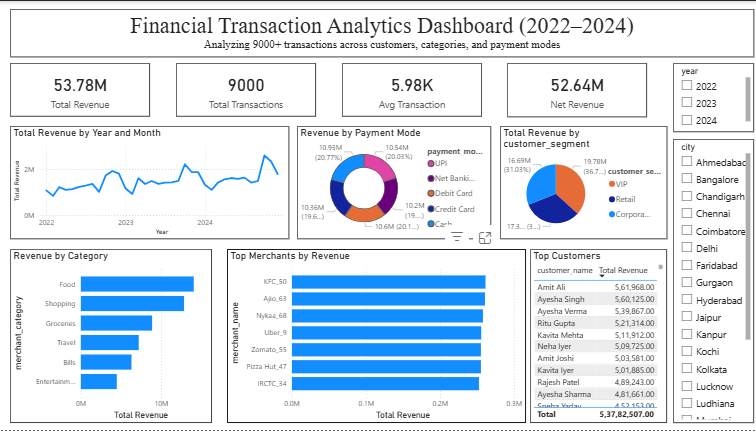

This screenshot's page, from the dashboard's own definition file:
{"tool":"powerbi","page":{"name":"Page 1","canvas":[1280,720],"ordinal":0},"visuals":[{"type":"card","fields":{"Values":["finance dim_accounts.Total Revenue"]},"box":[18.5,104.1,235.2,90],"z":0},{"type":"card","fields":{"Values":["finance dim_accounts.Total Transactions"]},"box":[296.9,104.1,235.2,90],"z":1000},{"type":"card","fields":{"Values":["finance dim_accounts.Avg Transaction"]},"box":[575.4,104.1,235,90],"z":2000},{"type":"card","fields":{"Values":["finance dim_accounts.Net Revenue"]},"box":[853.7,104.1,235.2,90.7],"z":3000},{"type":"lineChart","fields":{"Category":["finance dim_date.full_date.Variation.Date Hierarchy.Year","finance dim_date.full_date.Variation.Date Hierarchy.Month"],"Y":["finance dim_accounts.Total Revenue"]},"box":[18.5,210,468.7,189.8],"z":4000},{"type":"barChart","title":"Revenue by Category","fields":{"Category":["finance dim_merchants.merchant_category"],"Y":["finance dim_accounts.Total Revenue"]},"box":[18.5,416.6,339.3,292.3],"z":5000},{"type":"donutChart","title":"Revenue by Payment Mode","fields":{"Category":["finance fact_transactions.payment_mode"],"Y":["finance dim_accounts.Net Revenue"]},"box":[500.6,210,325.9,189.8],"z":6000},{"type":"slicer","title":"year","fields":{"Values":["finance dim_date.year"]},"box":[1132.2,104.1,136.1,115.9],"z":7000},{"type":"slicer","fields":{"Values":["finance dim_customers.city"]},"box":[1132.2,231.8,136.1,477.1],"z":8000},{"type":"textbox","box":[18.5,13.4,1249.8,80.6],"z":9000},{"type":"tableEx","title":"Top  Customers","fields":{"Values":["finance dim_customers.customer_name","finance dim_accounts.Total Revenue"]},"box":[892,416.6,230.1,292.3],"z":10000},{"type":"barChart","title":"Top Merchants by Revenue","fields":{"Category":["finance dim_merchants.merchant_name"],"Y":["finance dim_accounts.Total Revenue"]},"box":[383,416.6,502.3,292.3],"z":11000},{"type":"pieChart","fields":{"Category":["finance dim_customers.customer_segment"],"Y":["finance dim_accounts.Total Revenue"]},"box":[841.6,210,280.5,189.8],"z":12000}]}

Visuals, with their boxes in screenshot pixels (x1, y1, x2, y2), scaled from the page's 1280x720 canvas onto the 756x432 screenshot:
card - finance dim_accounts.Total Revenue: (11, 62, 150, 116)
card - finance dim_accounts.Total Transactions: (175, 62, 314, 116)
card - finance dim_accounts.Avg Transaction: (340, 62, 479, 116)
card - finance dim_accounts.Net Revenue: (504, 62, 643, 117)
lineChart - finance dim_date.full_date.Variation.Date Hierarchy.Year x finance dim_date.full_date.Variation.Date Hierarchy.Month: (11, 126, 288, 240)
"Revenue by Category" barChart: (11, 250, 211, 425)
"Revenue by Payment Mode" donutChart: (296, 126, 488, 240)
"year" slicer: (669, 62, 749, 132)
slicer - finance dim_customers.city: (669, 139, 749, 425)
textbox: (11, 8, 749, 56)
"Top  Customers" tableEx: (527, 250, 663, 425)
"Top Merchants by Revenue" barChart: (226, 250, 523, 425)
pieChart - finance dim_customers.customer_segment x finance dim_accounts.Total Revenue: (497, 126, 663, 240)
